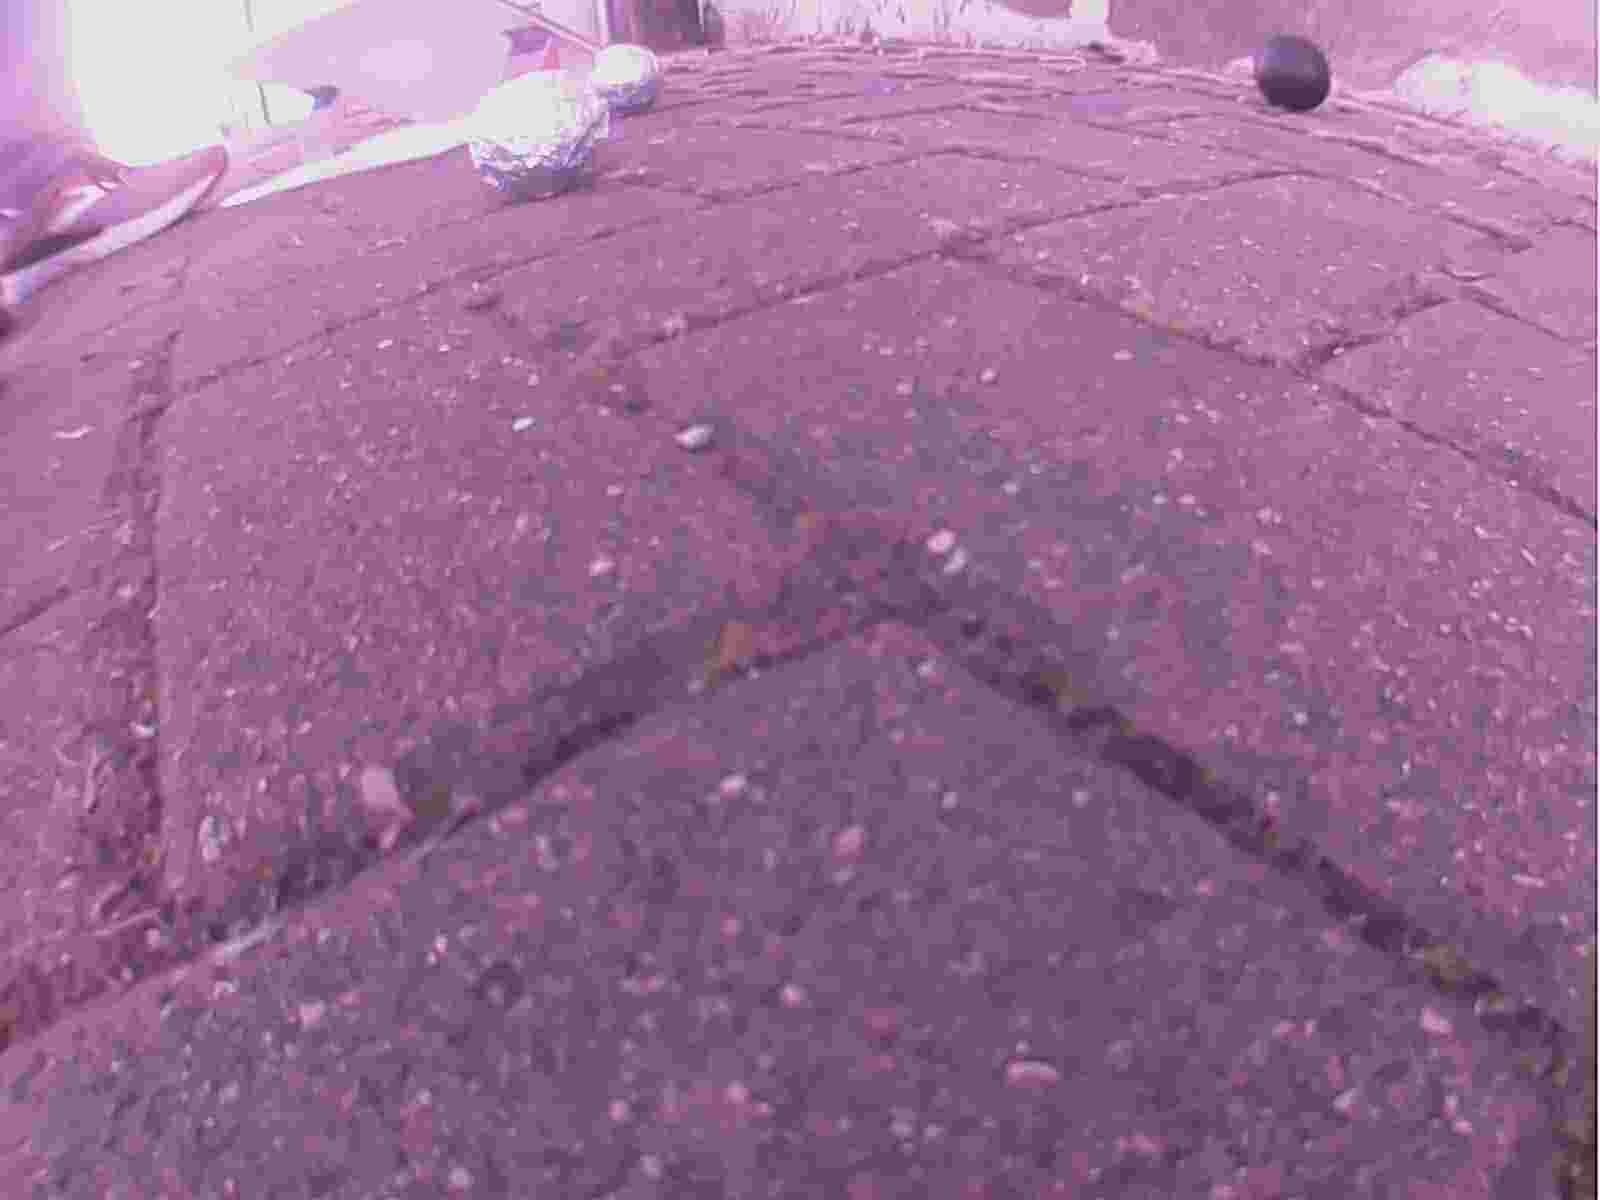bianca: (469, 63, 612, 209), (590, 38, 663, 113)
nera: (1250, 35, 1335, 113)
